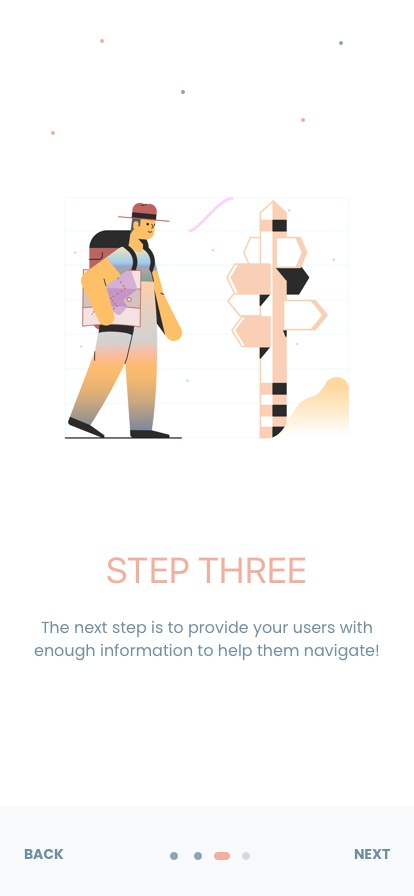Image: (64, 190, 355, 441)
PageIndicator: (169, 849, 252, 863)
Text: (34, 620, 380, 662), (107, 556, 308, 585), (25, 847, 67, 861), (353, 847, 391, 861)
